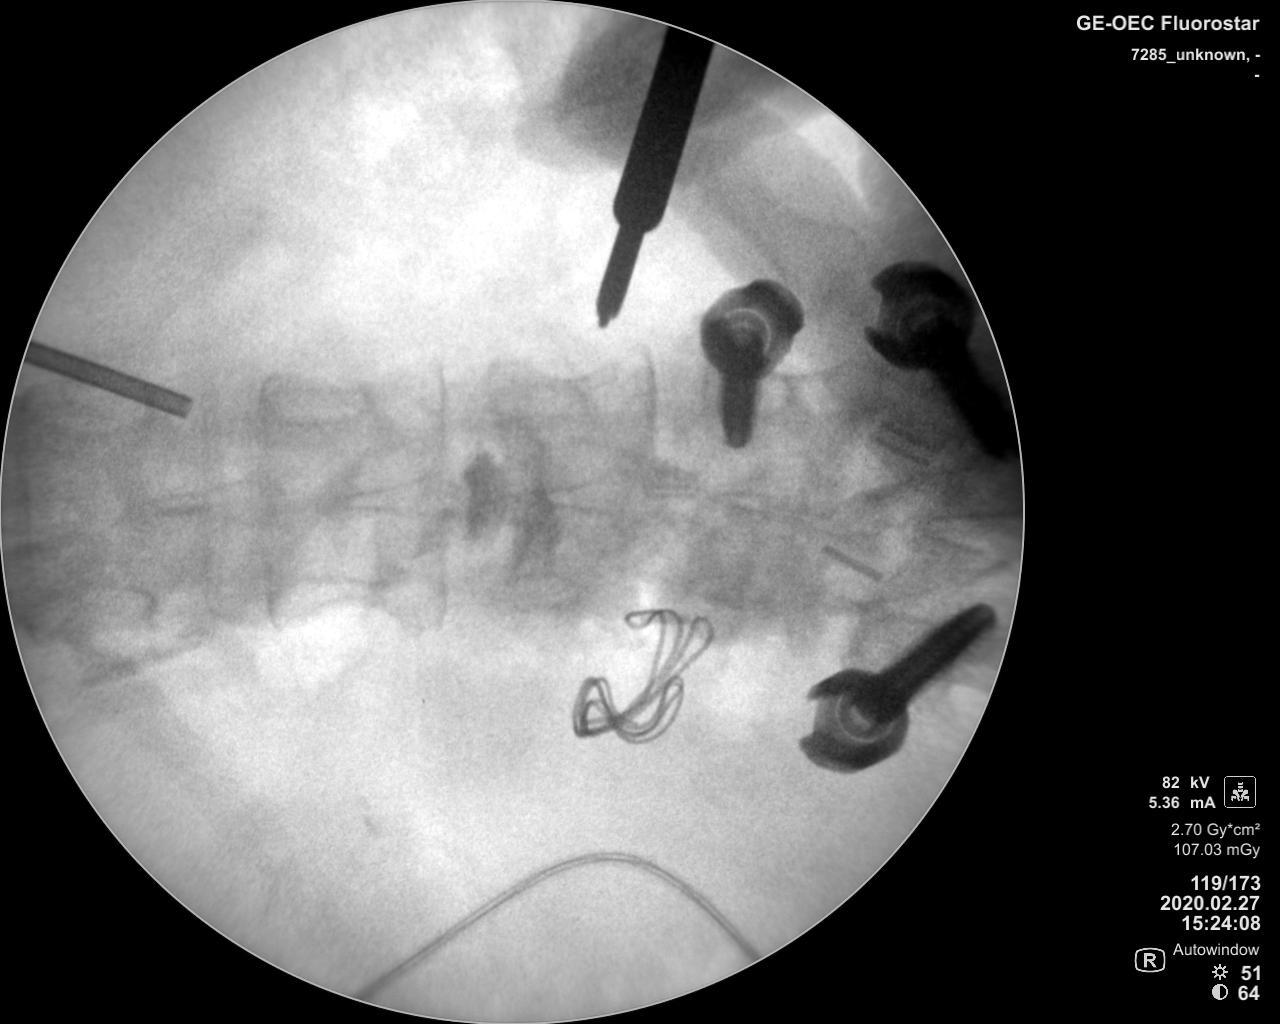eyes: (38, 585, 156, 636), (261, 373, 370, 424), (263, 574, 373, 624), (41, 385, 150, 432), (501, 567, 589, 618)
line: (248, 367, 285, 632), (429, 349, 453, 634)
nose: (144, 478, 285, 531), (329, 472, 467, 522), (916, 506, 1018, 562), (540, 470, 657, 514)
